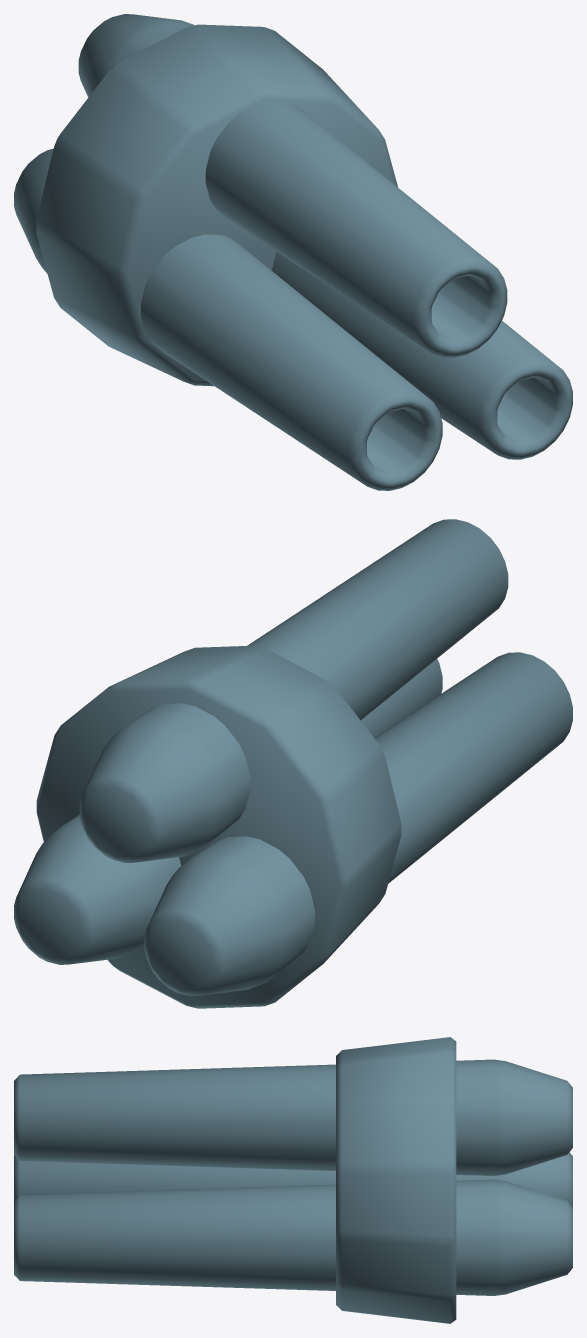
File: weapon.003.glb
The picture shows the model from 3 angles, top to bottom: view 1: azimuth 30°, elevation 25°; view 2: azimuth 150°, elevation 25°; view 3: azimuth 270°, elevation 25°; orthographic projection. The views are drawn at different scales.
Visible parts, largest first — view 1: weapon.003; view 2: weapon.003; view 3: weapon.003.
Boxes of the visible parts, box(x1,y1,x2,y2) form: weapon.003: box(14, 14, 572, 490); weapon.003: box(14, 519, 572, 1008); weapon.003: box(14, 1037, 572, 1323).
Size of the model in its own units: 2.4 by 2.4 by 4.68.
